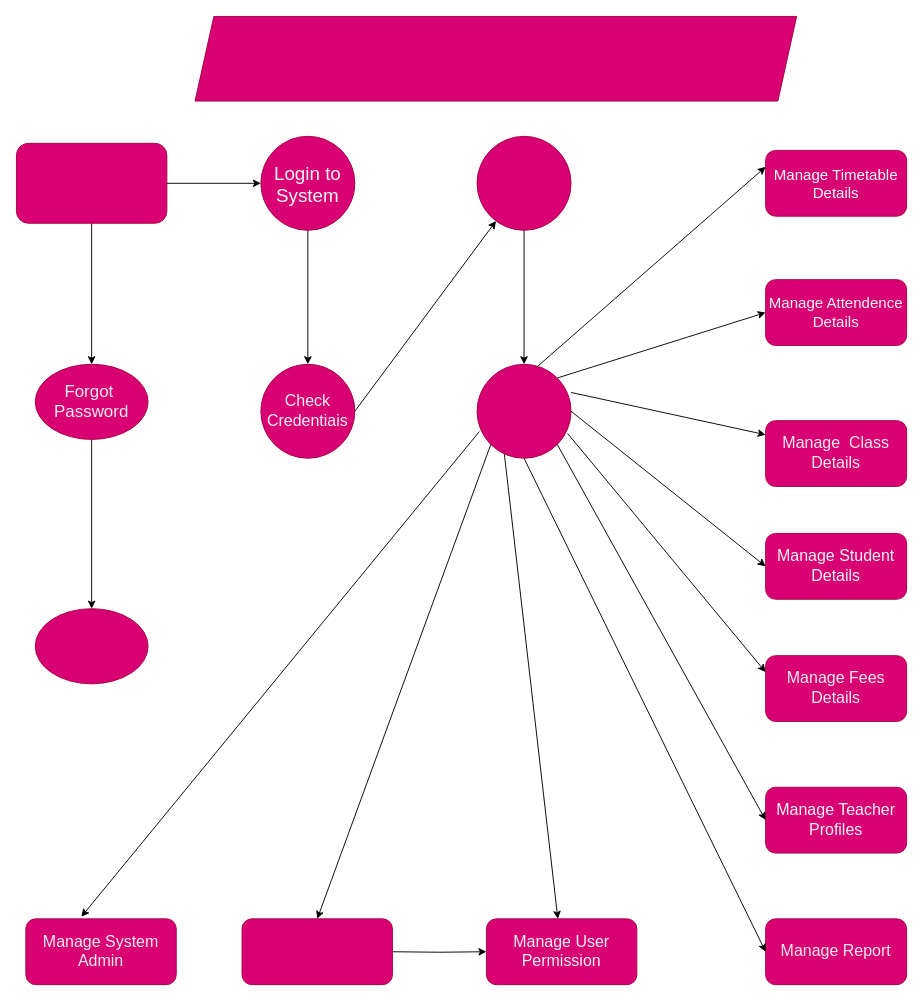
The diagram is 923 pixels wide and 1001 high, and some of its shapes have lost their labels. The shapes that lost their labels are listed below. From the top down, each one's centre as x and y in pixels, then its label:
At (495,58): "Student Information System".
At (91,182): "Admin".
At (523,182): "Check Roles of Access".
At (523,410): "Manage Modules".
At (91,646): "Send Email to User".
At (316,951): "Manage Roles of User".
